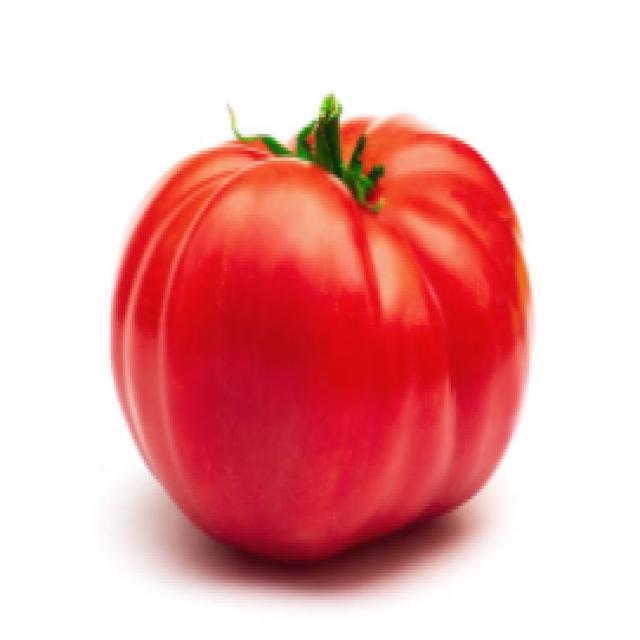Tomato: (136, 113, 536, 541)
